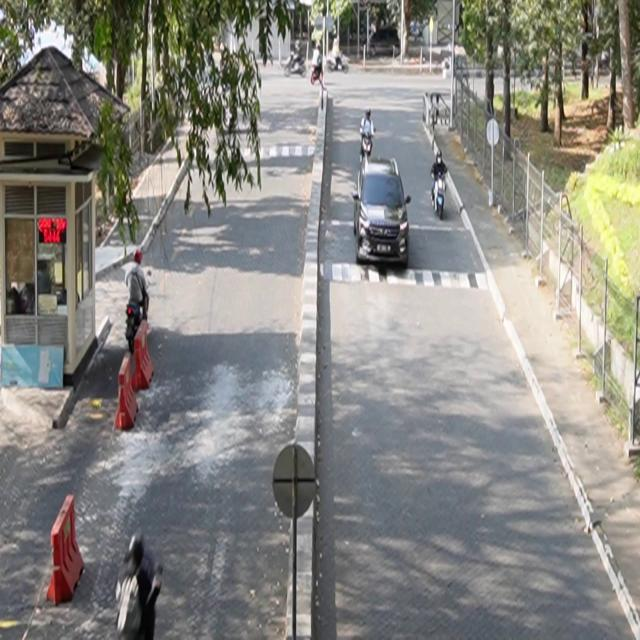car: (353, 155, 412, 269)
